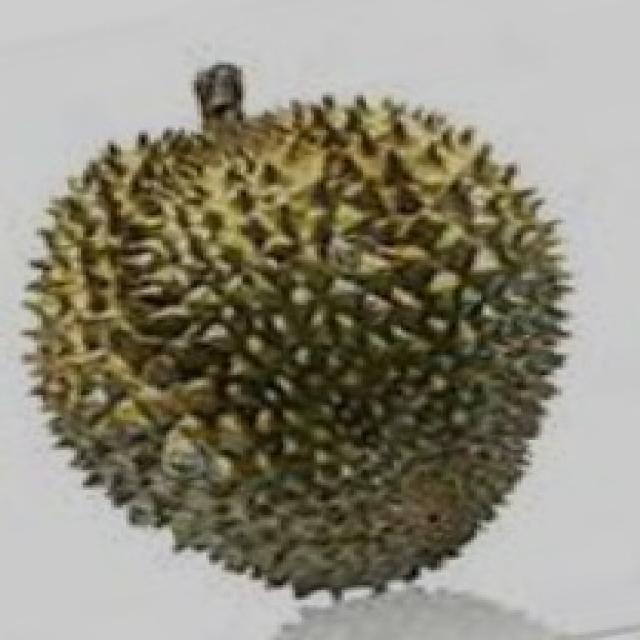fruit: (0, 260, 385, 638)
